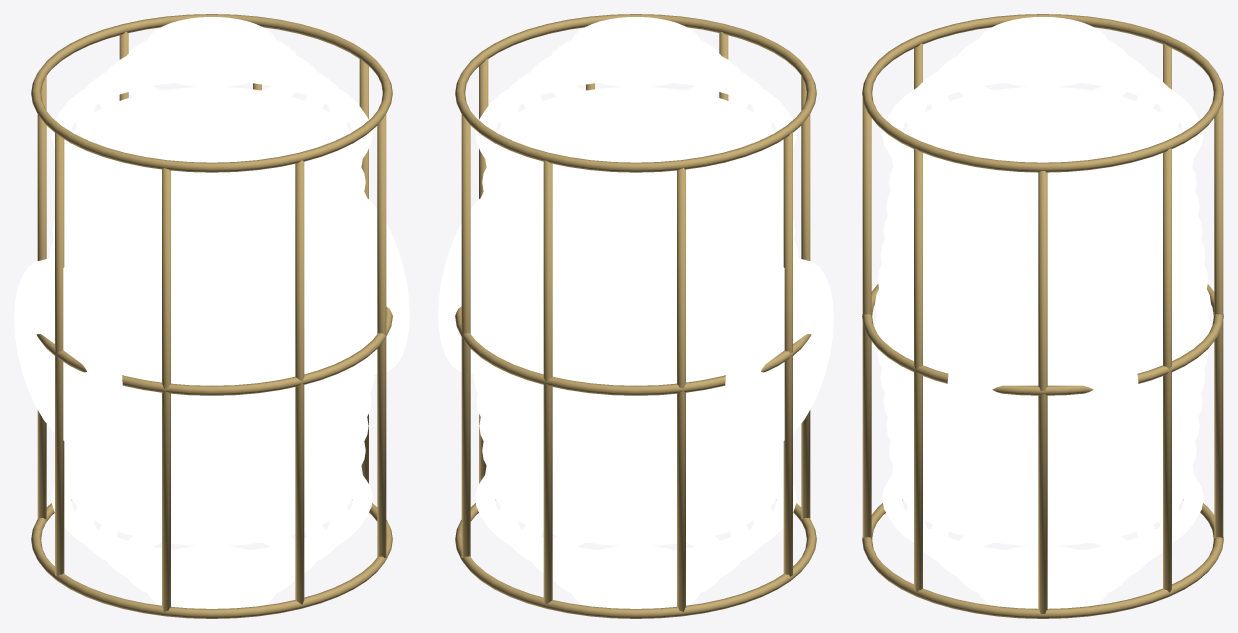
File: lens_on.glb
3 views of the same model, side by side, from view 1: azimuth 30°, elevation 25°; view 2: azimuth 150°, elevation 25°; view 3: azimuth 270°, elevation 25° (orthographic).
Visible parts, largest first — view 1: lens; view 2: lens; view 3: lens.
Boxes of the visible parts, left/top/right/bottom form: lens: left=14, top=14, right=409, bottom=618; lens: left=438, top=14, right=833, bottom=618; lens: left=862, top=14, right=1223, bottom=618.
Bounding box in the file's own units: 1.44 × 2.39 × 1.44.
